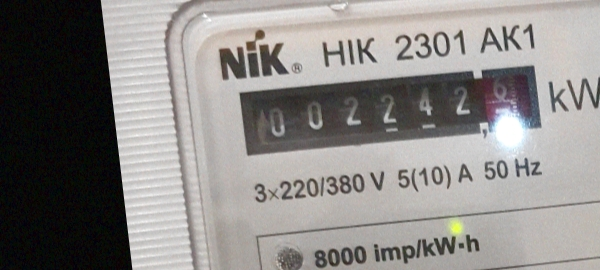0: (263, 105, 287, 140), (301, 99, 323, 133)
2: (375, 91, 397, 127), (339, 94, 361, 128), (449, 85, 470, 118)
4: (413, 85, 433, 119)
6: (488, 74, 507, 103)
screen: (225, 48, 551, 174)
